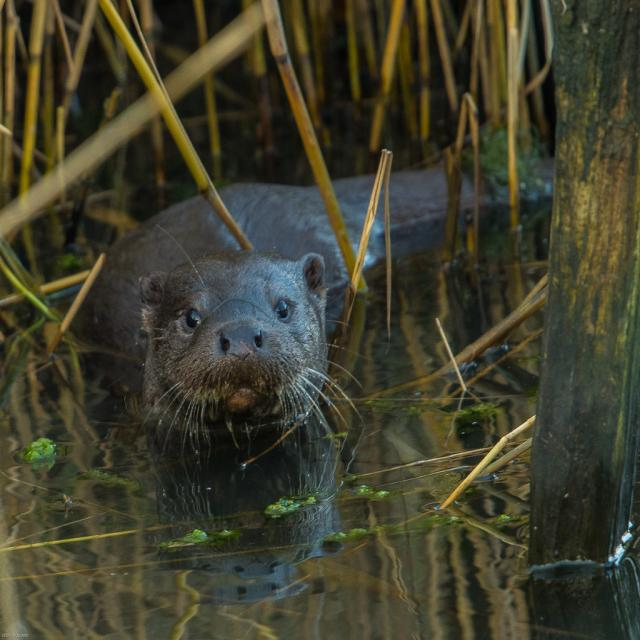otter: (136, 251, 327, 414)
